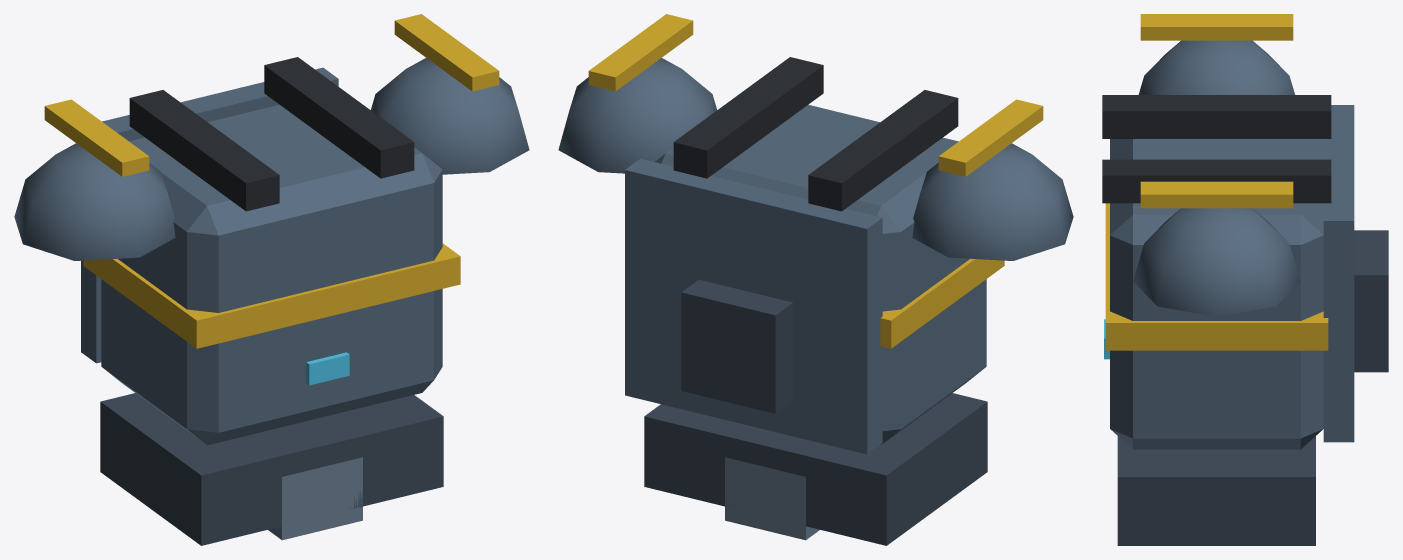
3 views of the same model, side by side, from view 1: azimuth 30°, elevation 25°; view 2: azimuth 150°, elevation 25°; view 3: azimuth 270°, elevation 25° (orthographic).
Visible parts, largest first — view 1: dweller_armor_composite; view 2: dweller_armor_composite; view 3: dweller_armor_composite.
Part boxes in pixels (x1,y1,x2,y2): dweller_armor_composite: (14, 14, 529, 545); dweller_armor_composite: (558, 14, 1073, 545); dweller_armor_composite: (1102, 14, 1388, 545).
Bounding box in the file's own units: 0.74 × 0.575 × 0.375.
